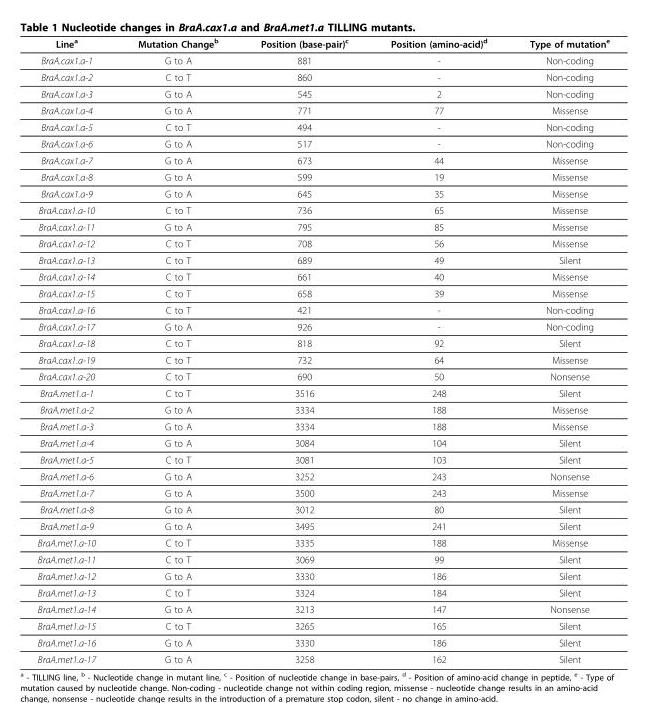table: (36, 36, 609, 664)
table column: (368, 36, 507, 664), (238, 36, 368, 664), (116, 36, 238, 664), (507, 36, 609, 664), (36, 36, 116, 664)
table column header: (36, 36, 609, 51)
table row: (36, 51, 609, 68), (36, 68, 609, 85), (36, 101, 609, 118), (36, 118, 609, 135), (36, 151, 609, 168), (36, 184, 609, 201), (36, 201, 609, 218), (36, 234, 609, 251), (36, 251, 609, 268), (36, 284, 609, 301), (36, 301, 609, 318), (36, 334, 609, 351), (36, 367, 609, 384), (36, 384, 609, 401), (36, 417, 609, 434), (36, 434, 609, 451), (36, 467, 609, 484), (36, 500, 609, 517), (36, 517, 609, 534), (36, 550, 609, 567), (36, 567, 609, 584), (36, 600, 609, 617), (36, 633, 609, 650), (36, 85, 609, 101), (36, 135, 609, 151), (36, 168, 609, 184), (36, 218, 609, 234), (36, 268, 609, 284), (36, 318, 609, 334), (36, 351, 609, 367), (36, 401, 609, 417), (36, 451, 609, 467), (36, 484, 609, 500), (36, 534, 609, 550), (36, 584, 609, 600), (36, 617, 609, 633), (36, 36, 609, 51), (36, 650, 609, 664)
